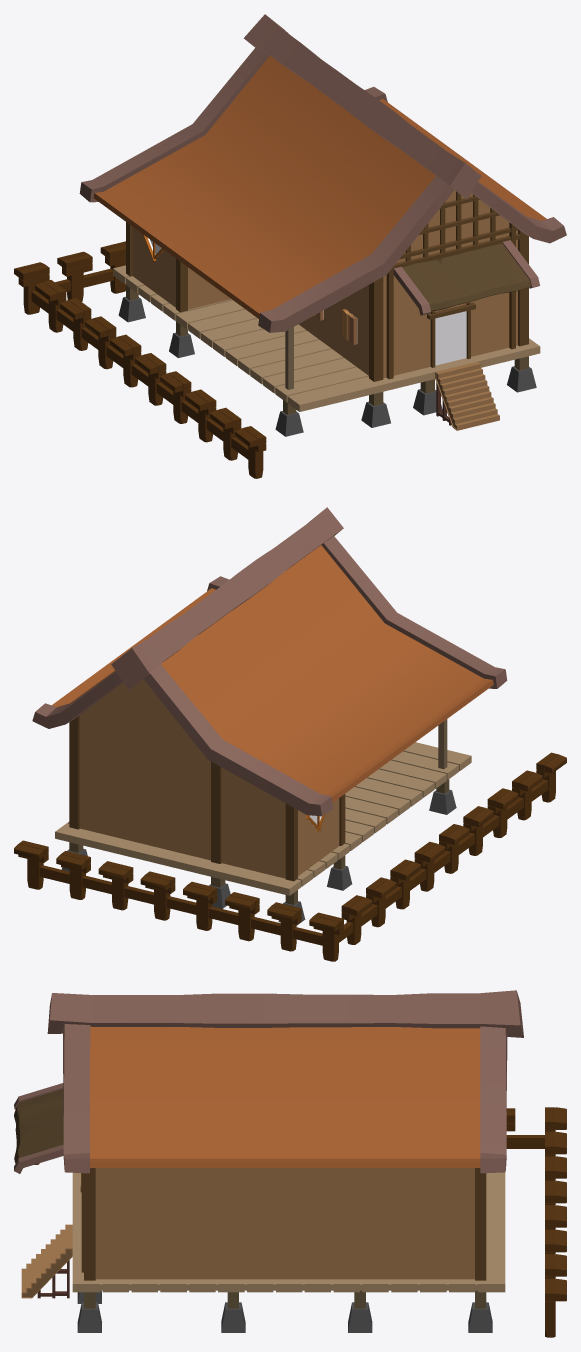
Rendered from rumah-baduy.glb.
3 views of the same model, one above another, from view 1: azimuth 30°, elevation 25°; view 2: azimuth 150°, elevation 25°; view 3: azimuth 270°, elevation 25° (orthographic). The views are drawn at different scales.
Visible parts, largest first — view 1: Object_4; view 2: Object_4; view 3: Object_4.
Boxes of the visible parts, x1,y1,x2,y2 form: Object_4: [14, 14, 566, 478]; Object_4: [14, 507, 566, 961]; Object_4: [14, 990, 566, 1337].
Bounding box in the file's own units: 1.87 × 1.34 × 2.28.
Materials: 1 (1 with a texture image).
